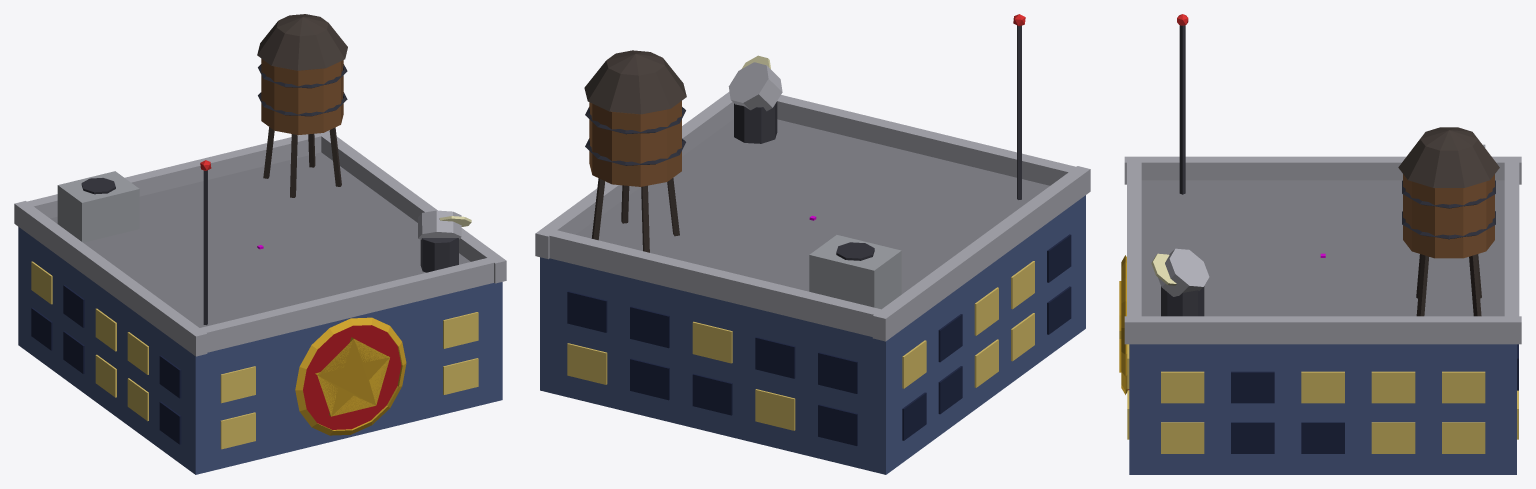
File: Platform_SuperheroShiba.fbx
3 renders of one model, left to right at view 1: azimuth 30°, elevation 25°; view 2: azimuth 150°, elevation 25°; view 3: azimuth 270°, elevation 25°, orthographic. The views are drawn at different scales.
Parts seen in each view (by area): view 1: Body; view 2: Body; view 3: Body.
Boxes of the visible parts, x1=… form: Body: x1=14, y1=14, x2=506, y2=474; Body: x1=535, y1=14, x2=1090, y2=474; Body: x1=1119, y1=14, x2=1521, y2=474.
Size of the model in its own units: 8.1 by 7.2 by 8.31.
